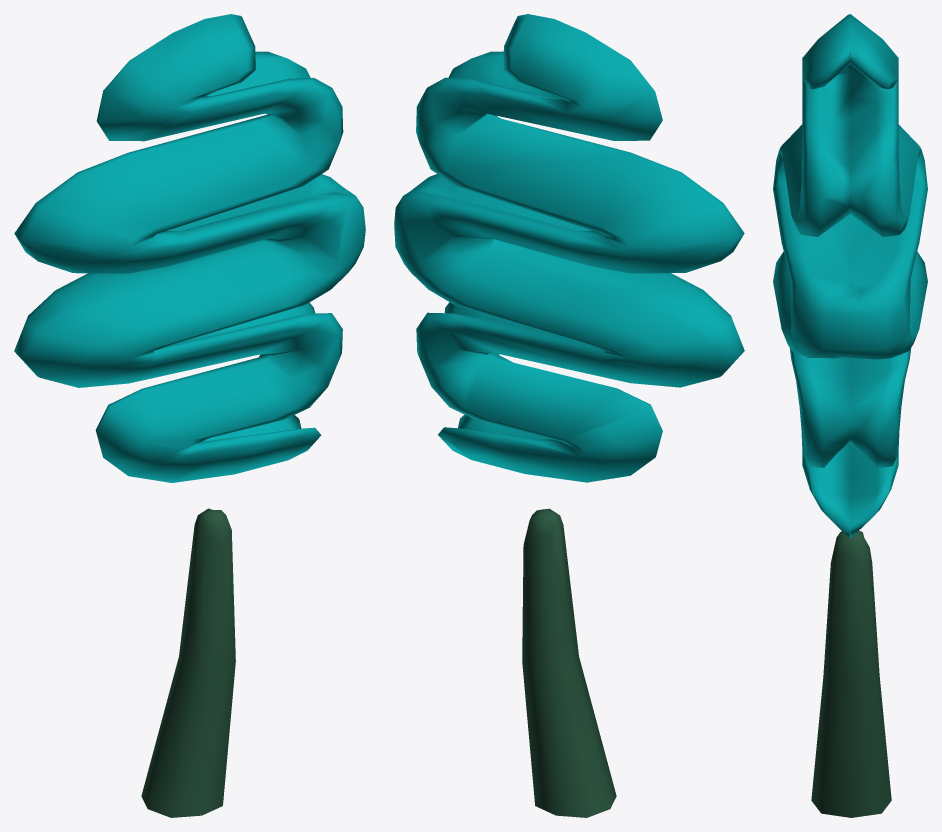
The model's file is cc0-tree-floating-lod1.glb.
3 views of the same model, side by side, from view 1: azimuth 30°, elevation 25°; view 2: azimuth 150°, elevation 25°; view 3: azimuth 270°, elevation 25° (orthographic).
Parts seen in each view (by area): view 1: part_0; view 2: part_0; view 3: part_0.
Part boxes in pixels (box(x1,y1,x2,y2)): part_0: box(14, 14, 365, 817); part_0: box(394, 14, 744, 817); part_0: box(773, 14, 927, 817).
Bounding box in the file's own units: 2.08 × 4.61 × 0.8259.
Materials: 1 (1 with a texture image).
